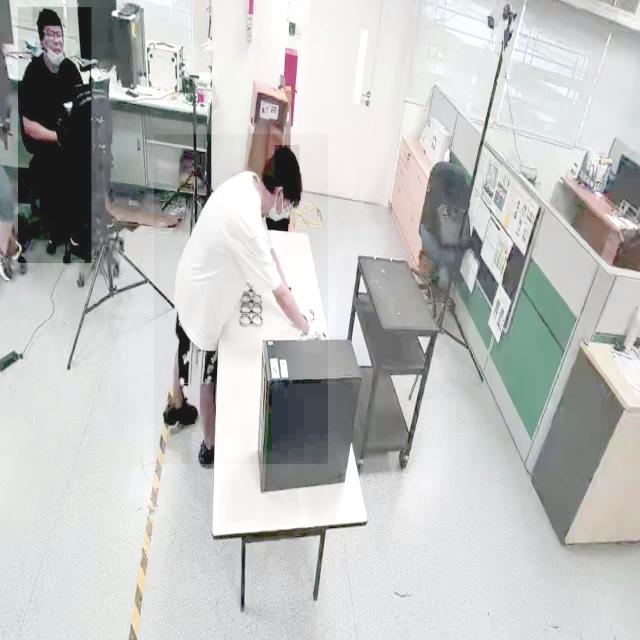face_mask: (262, 188, 296, 230)
face_nomask: (47, 30, 67, 60)
hand_glove: (301, 313, 327, 355)
head_nohelmet: (274, 145, 300, 187), (32, 6, 64, 27)
person: (154, 134, 328, 465), (18, 7, 92, 264)
shoes: (162, 394, 198, 434)
